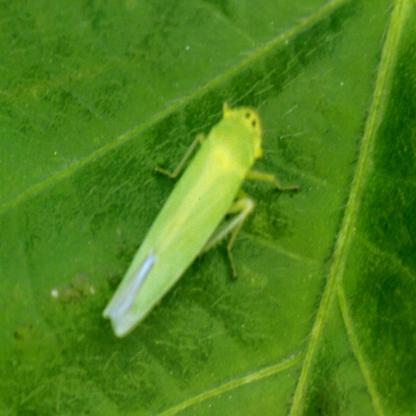Green-Leafhopper: (96, 97, 308, 339)
